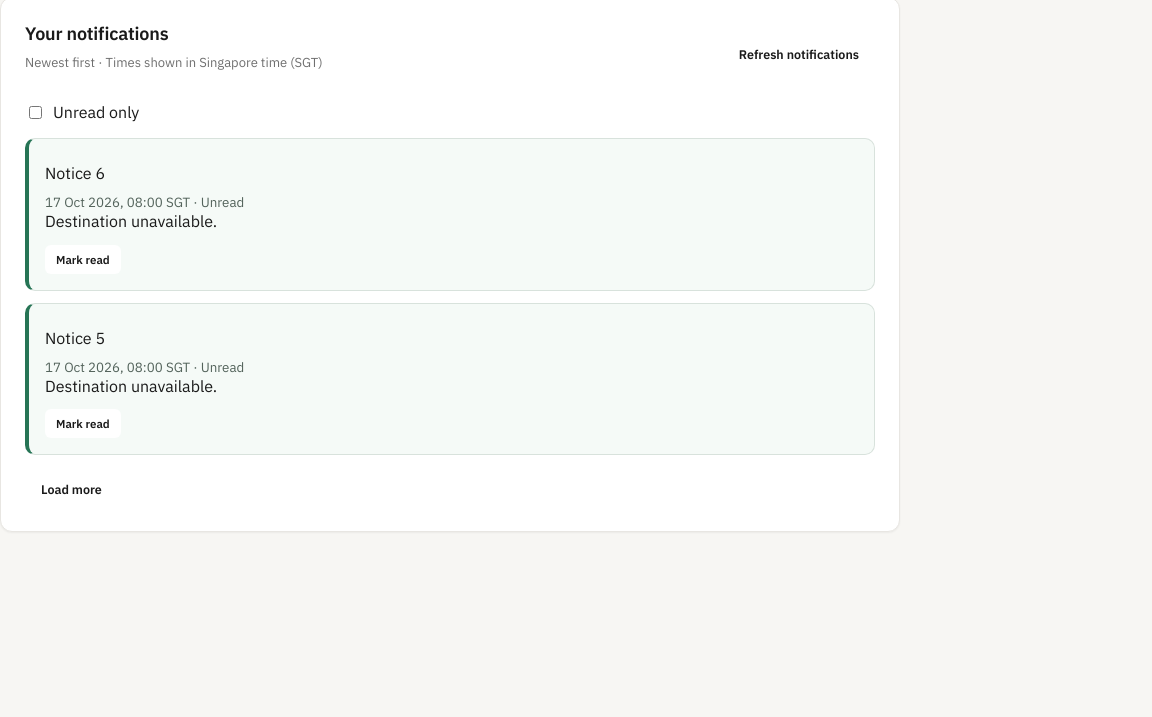
MF-03c poll during in-flight load more retains that valid older page and cursor
Expected: the text "Notice 6" is shown, [45,163,105,183]
Click the button "Load more" at (71, 489), box [25,471,118,507]
(page scrolled)
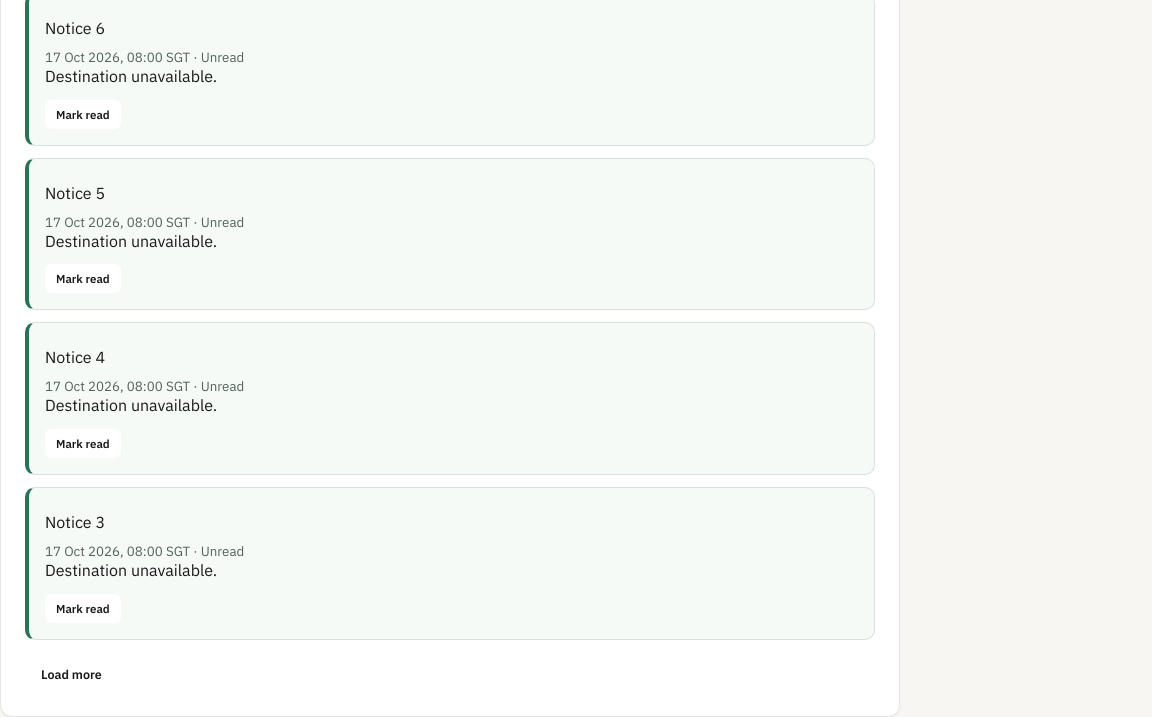
Now the text "Notice 3" is shown, box [45,512,105,532]
Now the text "Notice 4" is shown, box [45,347,105,367]
Click the button "Load more" at (71, 674), box [25,656,118,692]
(page scrolled)
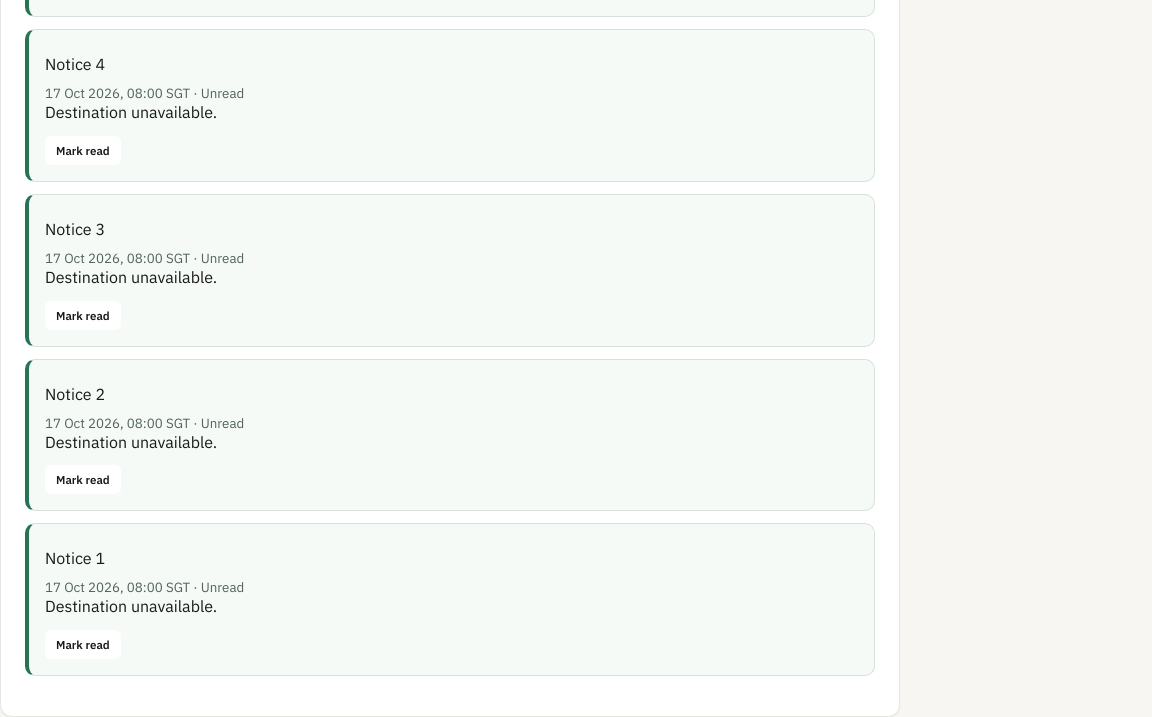
Now the text "Notice 1" is shown, box [45,548,105,568]
